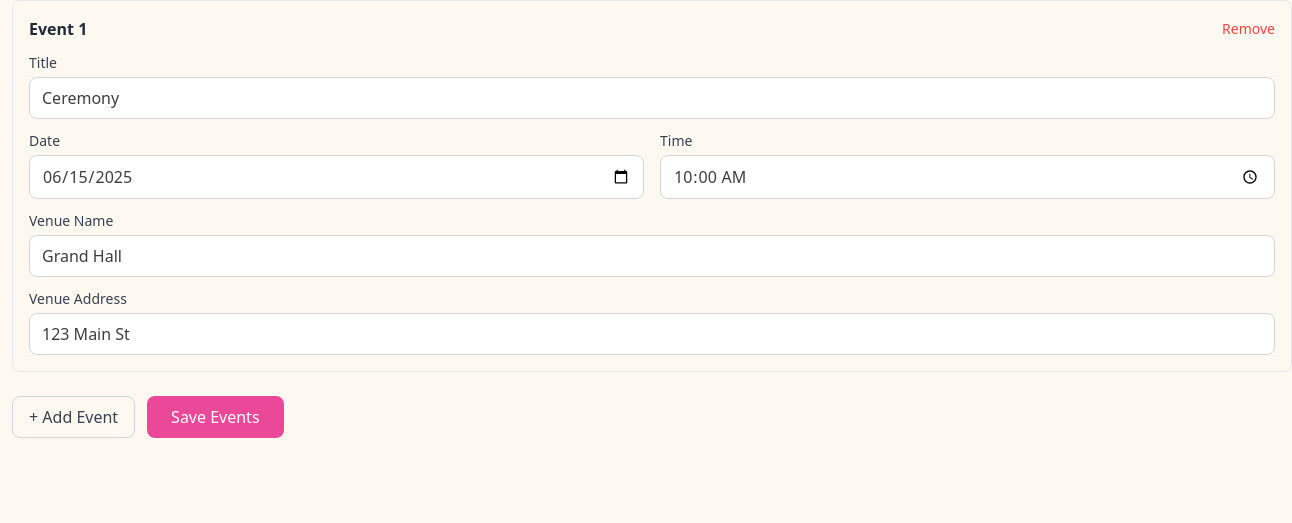
Test: EventEditor › shows success feedback after saving
This screenshot has width=1292, height=523.
Click the button "Save Events". click: (215, 417)
box: [147,396,284,438]
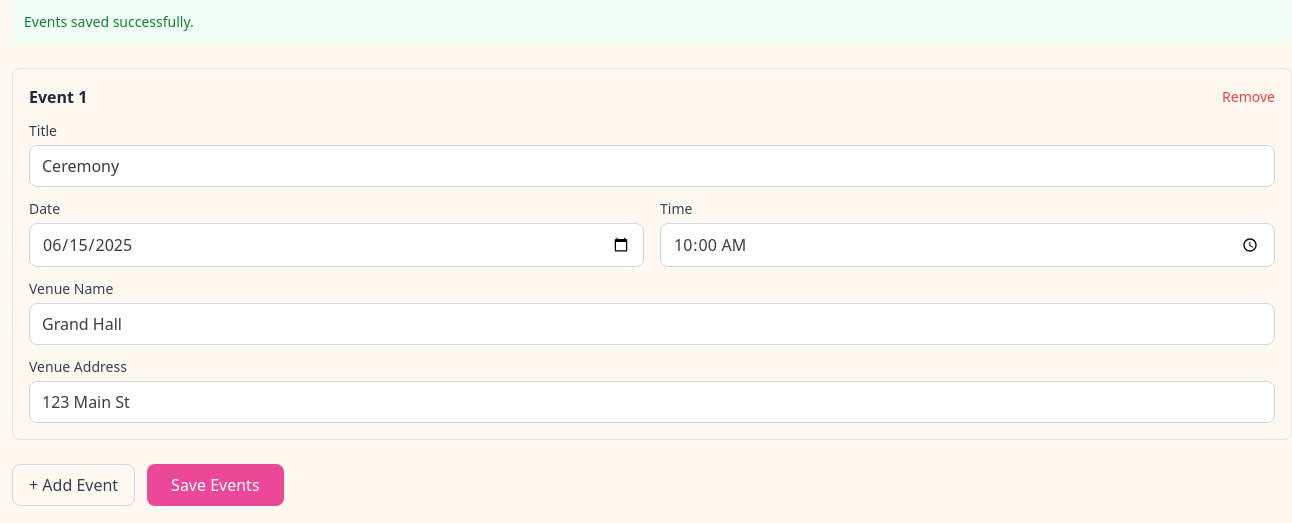
Result: the message reads "Events saved successfully." at [24,12,194,31]
